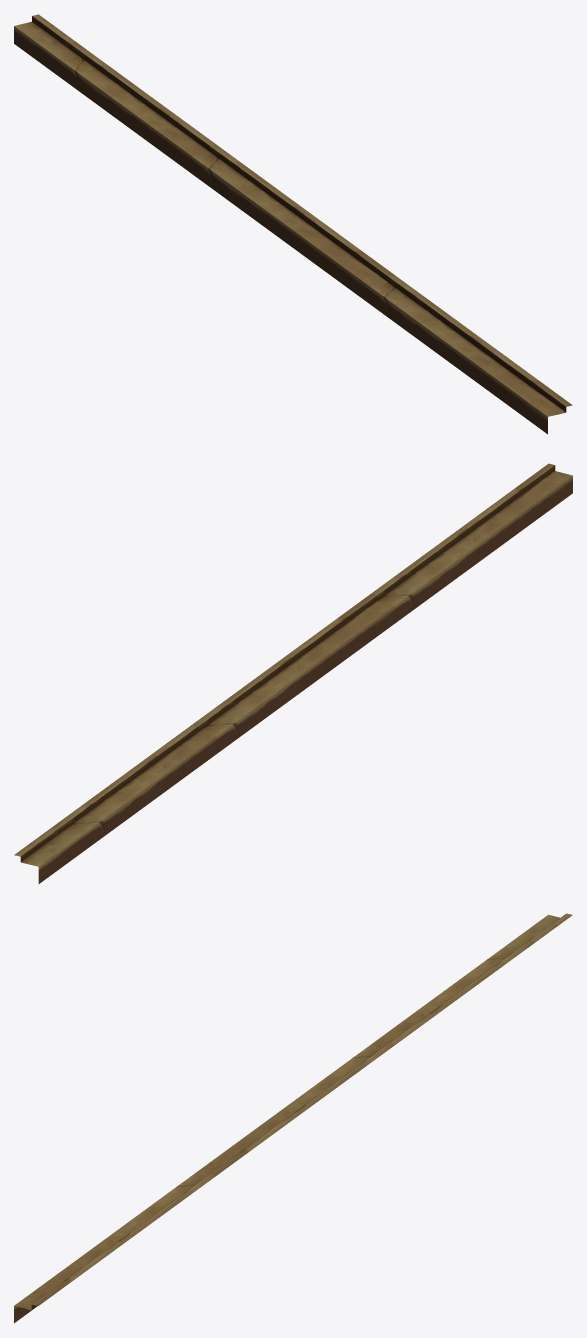
Rendered from bs_pvestairs_7.FBX.
3 renders of one model, top to bottom at view 1: azimuth 30°, elevation 25°; view 2: azimuth 150°, elevation 25°; view 3: azimuth 330°, elevation 25°, orthographic.
Parts seen in each view (by area): view 1: bs_pvestairs_07; view 2: bs_pvestairs_07; view 3: bs_pvestairs_07.
Boxes of the visible parts, <box> form: bs_pvestairs_07: <box>14,14,572,434</box>; bs_pvestairs_07: <box>14,463,572,883</box>; bs_pvestairs_07: <box>14,913,572,1323</box>.
Size of the model in its own units: 40.23 by 36.71 by 1513.
